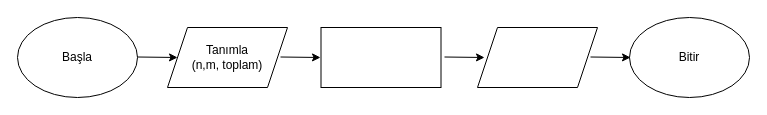
This 767x115 diagram has some shape labels left out. Here are the shapes that lost their labels. From the top down, the centre of each, then its label:
At [380,57]: "toplam=n+m".
At [537,57]: "ekrana yazdır (toplam)".
